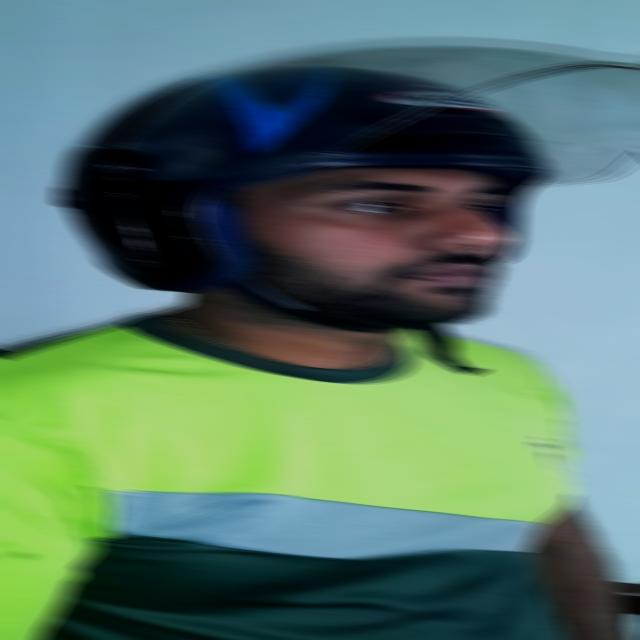With Helmet: (51, 34, 640, 293)
